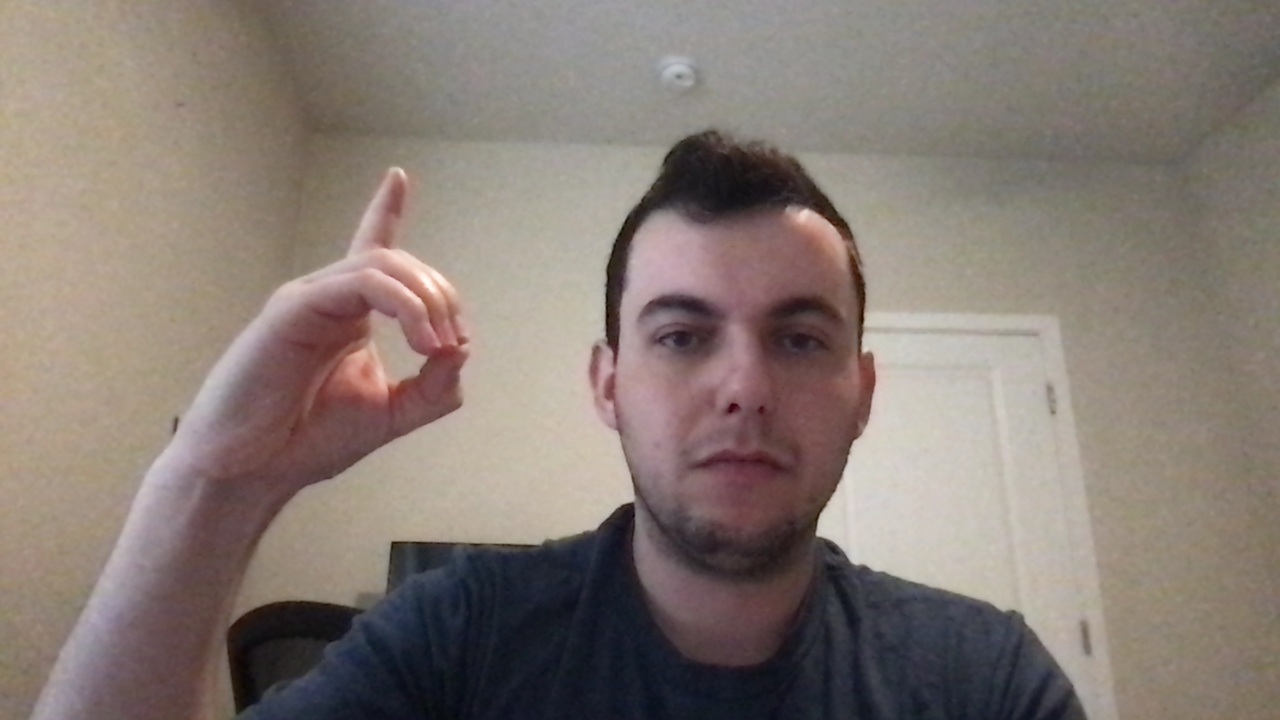d: (175, 157, 524, 487)
